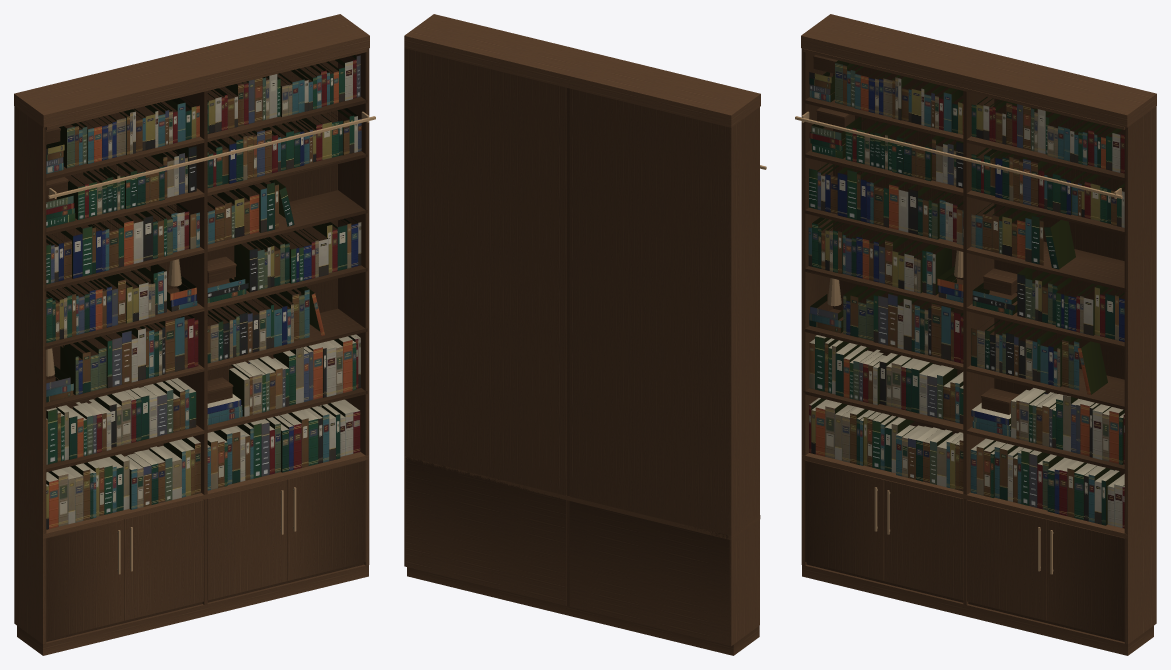
File: library_bookcase_b.gltf
3 views of the same model, side by side, from view 1: azimuth 30°, elevation 25°; view 2: azimuth 150°, elevation 25°; view 3: azimuth 330°, elevation 25° (orthographic).
Parts seen in each view (by area): view 1: LibraryBookcaseB_Carcass, LibraryBookcaseB_Books, LibraryBookcaseB_Bronze; view 2: LibraryBookcaseB_Carcass; view 3: LibraryBookcaseB_Carcass, LibraryBookcaseB_Books, LibraryBookcaseB_Bronze.
Boxes of the visible parts, <box> form: LibraryBookcaseB_Carcass: <box>14,14,369,655</box>; LibraryBookcaseB_Books: <box>46,55,361,529</box>; LibraryBookcaseB_Bronze: <box>46,111,375,574</box>; LibraryBookcaseB_Carcass: <box>404,14,760,655</box>; LibraryBookcaseB_Carcass: <box>801,14,1156,655</box>; LibraryBookcaseB_Books: <box>808,60,1124,528</box>; LibraryBookcaseB_Bronze: <box>795,111,1122,574</box>.
Bounding box in the file's own units: 2.36 × 3.74 × 0.445.
3 materials, 2 textured.
